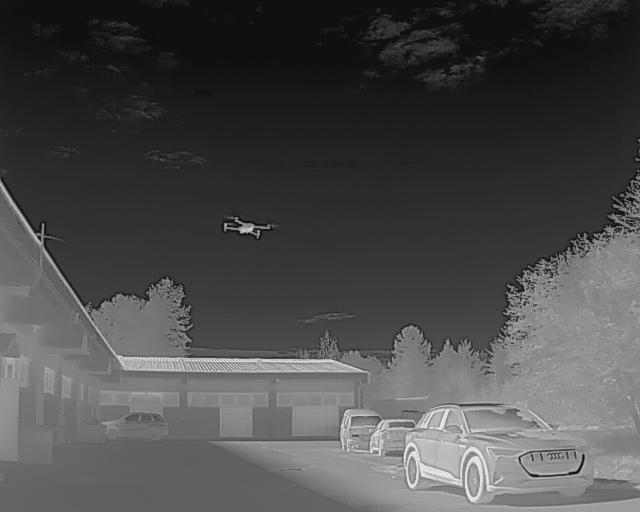drone: (212, 210, 276, 242)
